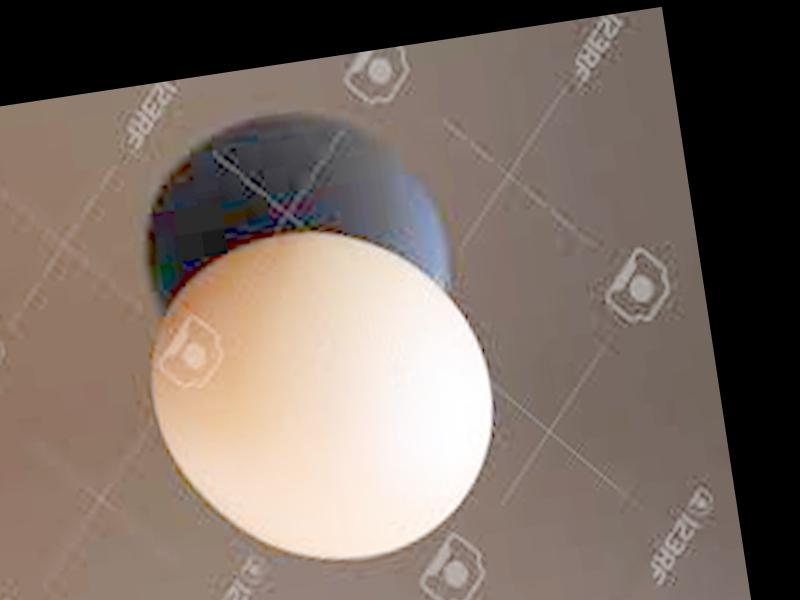Eggs: (133, 205, 514, 585)
